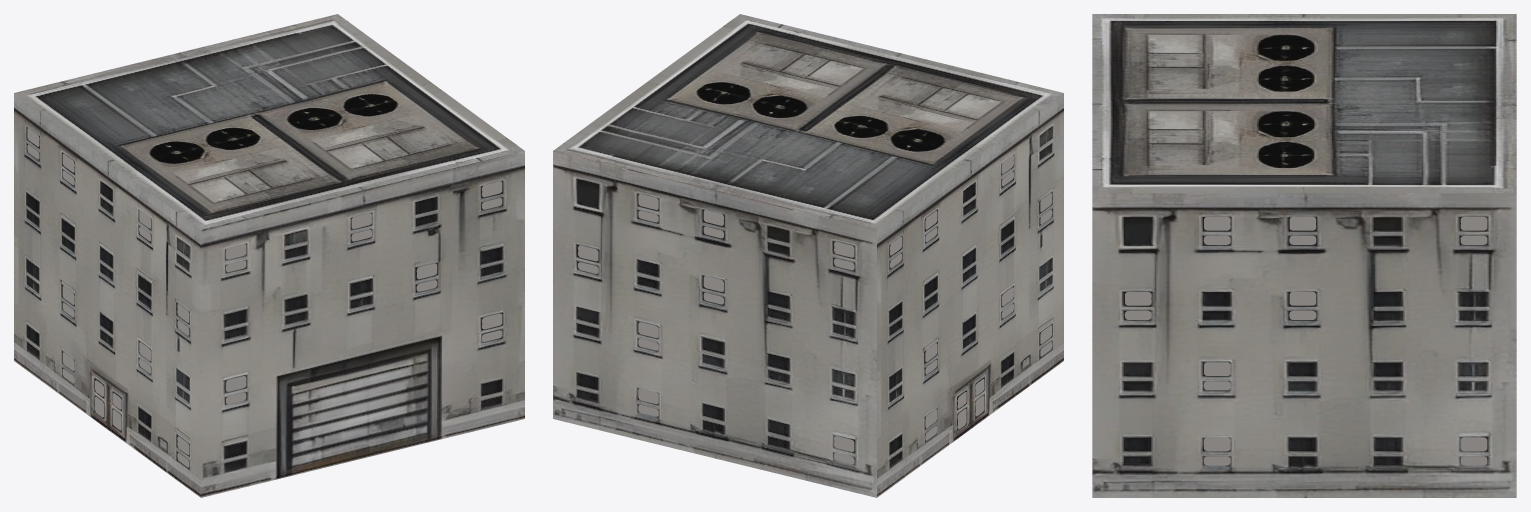
The model's file is city4storyb_hdtex.glb.
3 renders of one model, left to right at view 1: azimuth 30°, elevation 25°; view 2: azimuth 150°, elevation 25°; view 3: azimuth 270°, elevation 25°, orthographic. The views are drawn at different scales.
Parts seen in each view (by area): view 1: City4Story_, LitWin_City4Story; view 2: City4Story_, LitWin_City4Story; view 3: City4Story_, LitWin_City4Story.
Part boxes in pixels (<box>): City4Story_: <box>14,14,524,497</box>; LitWin_City4Story: <box>27,128,502,467</box>; City4Story_: <box>553,14,1063,497</box>; LitWin_City4Story: <box>578,155,1052,464</box>; City4Story_: <box>1092,14,1516,497</box>; LitWin_City4Story: <box>1124,216,1487,465</box>.
Size of the model in its own units: 17.92 by 14.18 by 17.92.
Materials: 1 (1 with a texture image).
